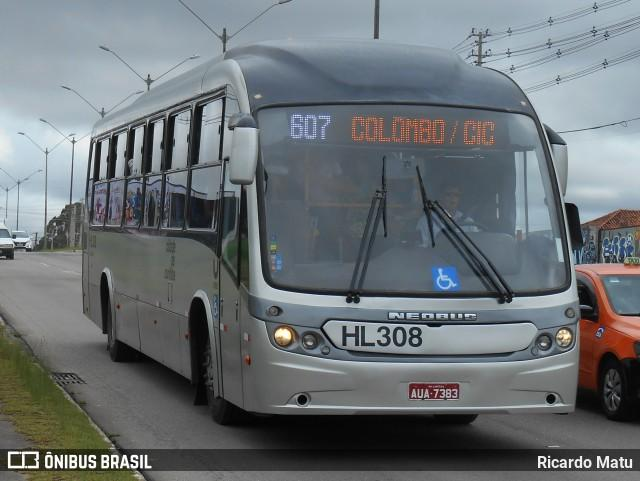COLOMBO CIC: (344, 110, 504, 151)
